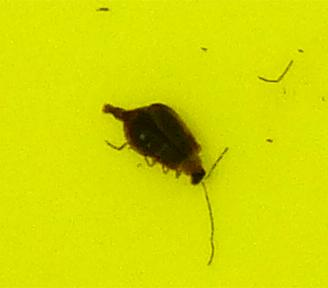Coleoptera: (100, 100, 228, 188)
